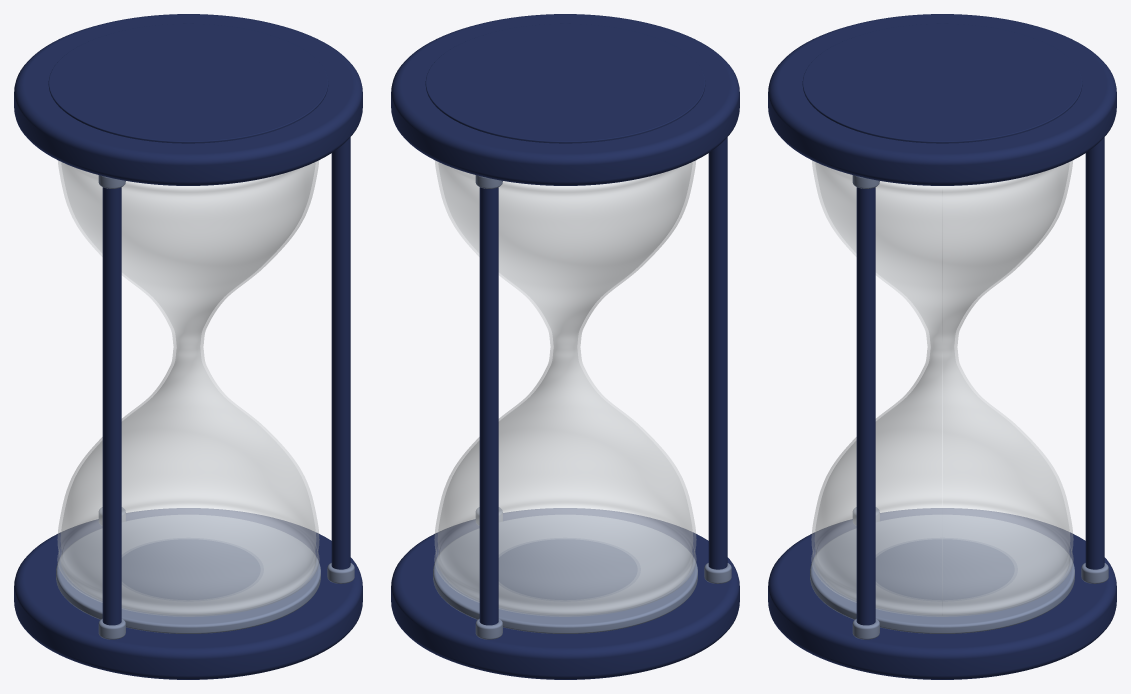
The model's file is hourglass.glb.
3 views of the same model, side by side, from view 1: azimuth 30°, elevation 25°; view 2: azimuth 150°, elevation 25°; view 3: azimuth 270°, elevation 25° (orthographic).
Parts seen in each view (by area): view 1: Glass_vessel, Upper_inlay, Lower_glass_seat, Upper_cap, Lower_cap, Frame_pillar_1, Frame_pillar_2; view 2: Glass_vessel, Upper_inlay, Lower_glass_seat, Upper_cap, Lower_cap, Frame_pillar_0, Frame_pillar_1; view 3: Glass_vessel, Upper_inlay, Lower_glass_seat, Upper_cap, Lower_cap, Frame_pillar_2, Frame_pillar_0.
Part boxes in pixels (x1=…): Glass_vessel: x1=57, y1=160, x2=319, y2=616; Upper_inlay: x1=48, y1=23, x2=328, y2=143; Lower_glass_seat: x1=56, y1=515, x2=320, y2=633; Upper_cap: x1=14, y1=14, x2=362, y2=185; Lower_cap: x1=14, y1=508, x2=362, y2=679; Frame_pillar_1: x1=102, y1=187, x2=121, y2=625; Frame_pillar_2: x1=331, y1=137, x2=350, y2=569; Glass_vessel: x1=434, y1=160, x2=696, y2=616; Upper_inlay: x1=425, y1=23, x2=705, y2=143; Lower_glass_seat: x1=433, y1=515, x2=697, y2=633; Upper_cap: x1=391, y1=14, x2=739, y2=185; Lower_cap: x1=391, y1=508, x2=739, y2=679; Frame_pillar_0: x1=479, y1=187, x2=498, y2=625; Frame_pillar_1: x1=708, y1=137, x2=727, y2=569; Glass_vessel: x1=811, y1=160, x2=1073, y2=616; Upper_inlay: x1=802, y1=23, x2=1082, y2=143; Lower_glass_seat: x1=810, y1=515, x2=1074, y2=633; Upper_cap: x1=768, y1=14, x2=1116, y2=185; Lower_cap: x1=768, y1=508, x2=1116, y2=679; Frame_pillar_2: x1=856, y1=187, x2=875, y2=625; Frame_pillar_0: x1=1085, y1=137, x2=1104, y2=569.
Size of the model in its own units: 1.92 by 3.21 by 1.92.
